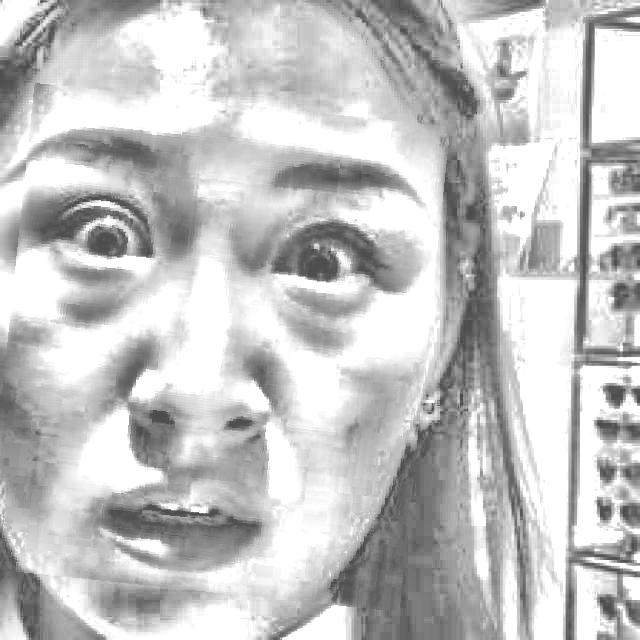fear: (0, 93, 438, 602)
